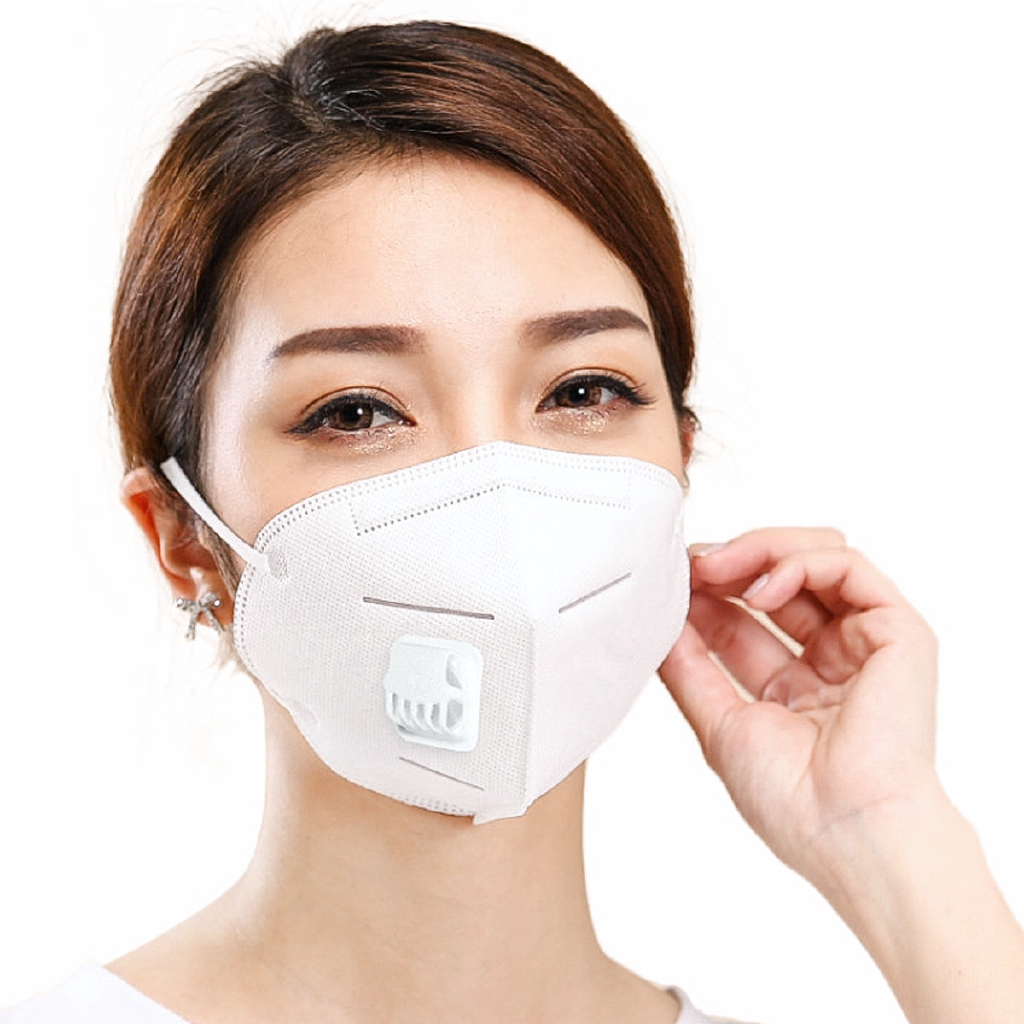n95: (155, 445, 689, 826)
